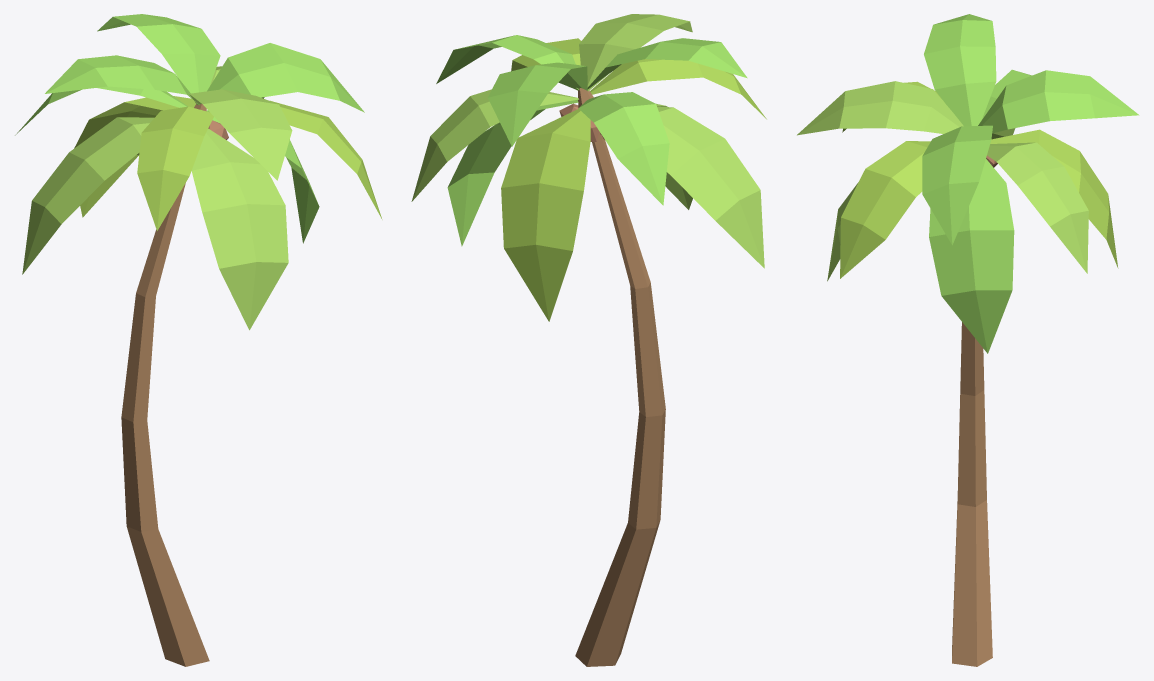
The model's file is Palm_Tree_Coconut_l_03_LOD.fbx.
3 renders of one model, left to right at view 1: azimuth 30°, elevation 25°; view 2: azimuth 150°, elevation 25°; view 3: azimuth 270°, elevation 25°, orthographic. The views are drawn at different scales.
Parts seen in each view (by area): view 1: Palm_Tree_Coconut_l_03_LOD0; view 2: Palm_Tree_Coconut_l_03_LOD0; view 3: Palm_Tree_Coconut_l_03_LOD0.
Boxes of the visible parts, x1,y1,x2,y2 form: Palm_Tree_Coconut_l_03_LOD0: (15,14,382,666); Palm_Tree_Coconut_l_03_LOD0: (411,14,766,666); Palm_Tree_Coconut_l_03_LOD0: (797,14,1139,666).
Size of what is drawn, in the model's own units: 442 by 784 by 412.
